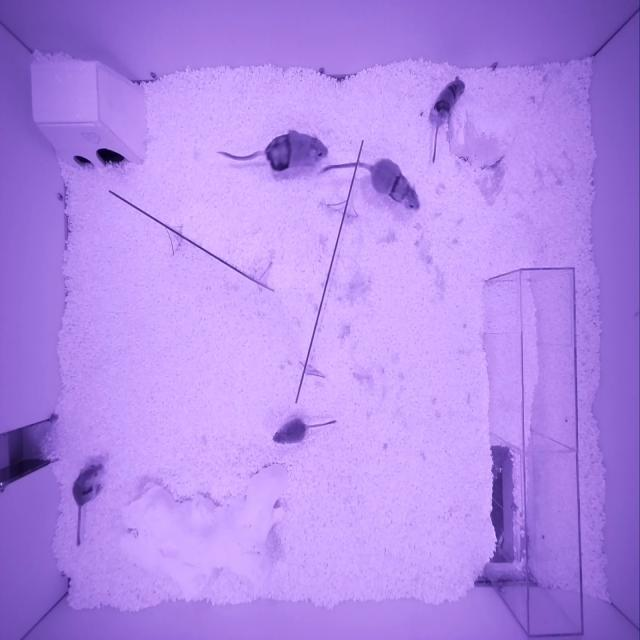adult_back: (265, 130, 328, 174)
adult_front: (369, 158, 419, 211)
pup_fluffy: (271, 418, 305, 446)
pup_h_stripe: (431, 77, 464, 126)
pup_spotted: (73, 462, 105, 506)
